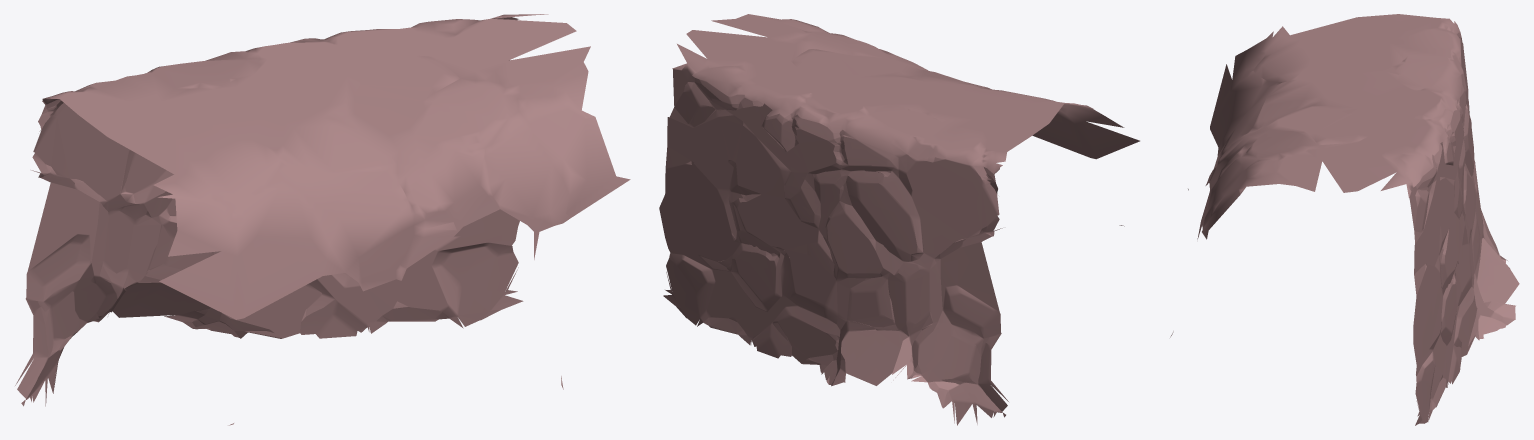
File: canyon.fbx_PolyShape__3__021LODs.fbx
The picture shows the model from 3 angles, left to right: view 1: azimuth 30°, elevation 25°; view 2: azimuth 150°, elevation 25°; view 3: azimuth 270°, elevation 25°; orthographic projection. The views are drawn at different scales.
Visible parts, largest first — view 1: PolyShape (3).021_LOD0; view 2: PolyShape (3).021_LOD0; view 3: PolyShape (3).021_LOD0.
Part boxes in pixels (x1=…): PolyShape (3).021_LOD0: x1=15, y1=14, x2=630, y2=425; PolyShape (3).021_LOD0: x1=659, y1=14, x2=1139, y2=425; PolyShape (3).021_LOD0: x1=1170, y1=14, x2=1519, y2=425.
Size of what is drawn, in the model's own units: 5912 by 3819 by 4649.
